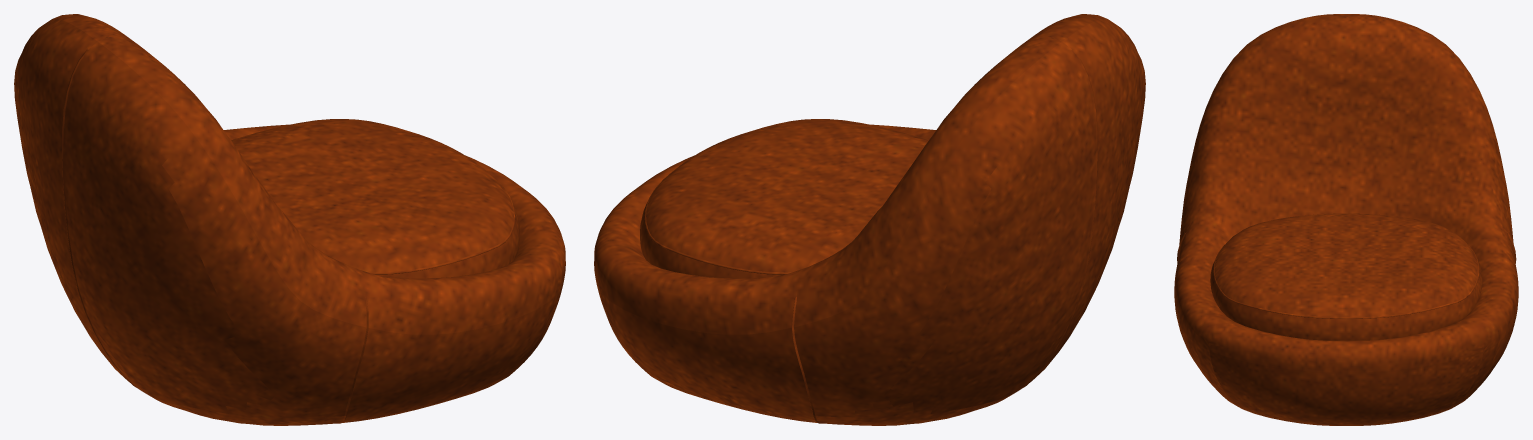
File: Couch.fbx
3 renders of one model, left to right at view 1: azimuth 30°, elevation 25°; view 2: azimuth 150°, elevation 25°; view 3: azimuth 270°, elevation 25°, orthographic. The views are drawn at different scales.
Visible parts, largest first — view 1: Couch; view 2: Couch; view 3: Couch.
Boxes of the visible parts, x1,y1,x2,y2 form: Couch: [14, 14, 565, 425]; Couch: [594, 14, 1145, 425]; Couch: [1174, 14, 1518, 425].
Size of what is drawn, in the model's own units: 91.6 by 79.14 by 71.27.
Materials: 1 (1 with a texture image).
